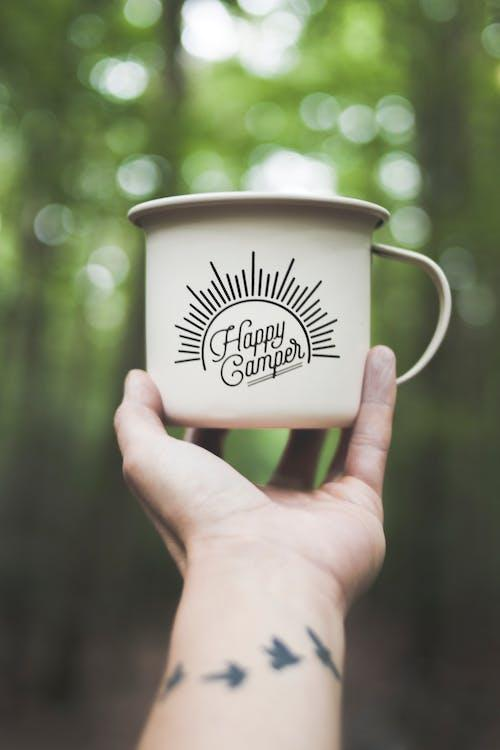Mug: (100, 127, 475, 451)
